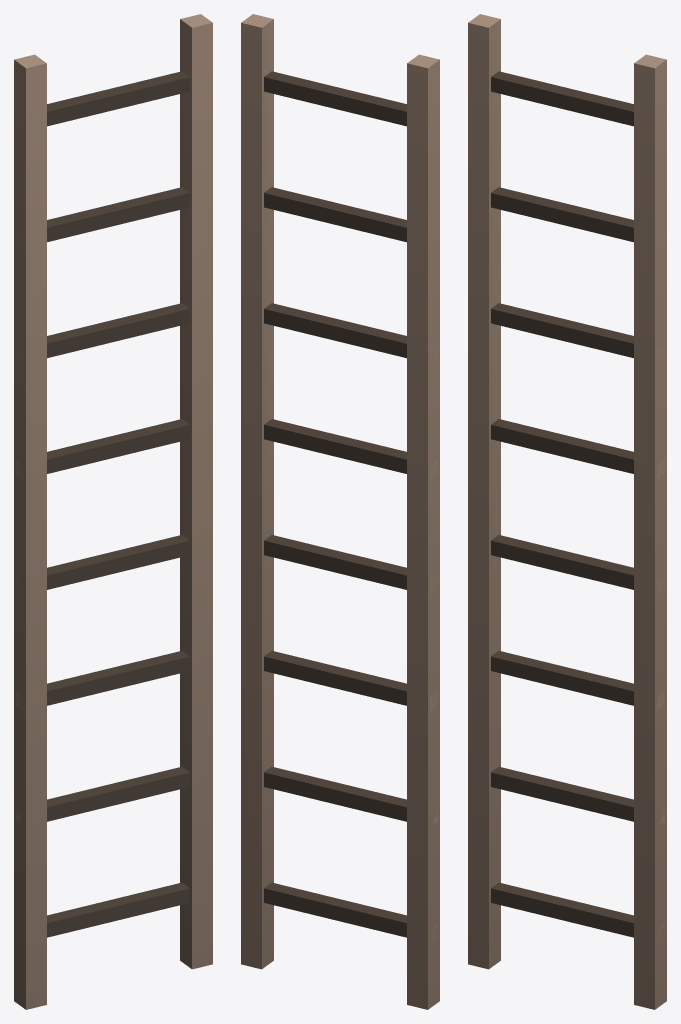
Rendered from quay_ladder.lod2.glb.
The picture shows the model from 3 angles, left to right: view 1: azimuth 30°, elevation 25°; view 2: azimuth 150°, elevation 25°; view 3: azimuth 330°, elevation 25°; orthographic projection.
Parts seen in each view (by area): view 1: props_quay_ladder.lod2; view 2: props_quay_ladder.lod2; view 3: props_quay_ladder.lod2.
Part boxes in pixels (x1,y1,x2,y2): props_quay_ladder.lod2: (14, 14, 212, 1009); props_quay_ladder.lod2: (241, 14, 439, 1009); props_quay_ladder.lod2: (468, 14, 666, 1009).
Bounding box in the file's own units: 0.5399 × 2.6 × 0.06.
